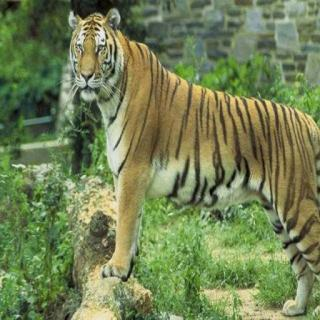Tiger: (35, 0, 320, 299)
